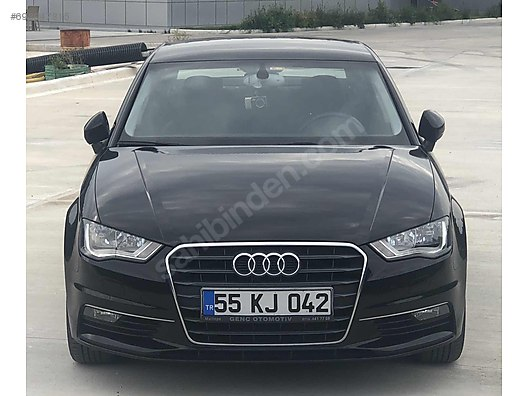audi: (226, 251, 305, 280)
